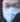with_mask: (2, 1, 20, 22)
